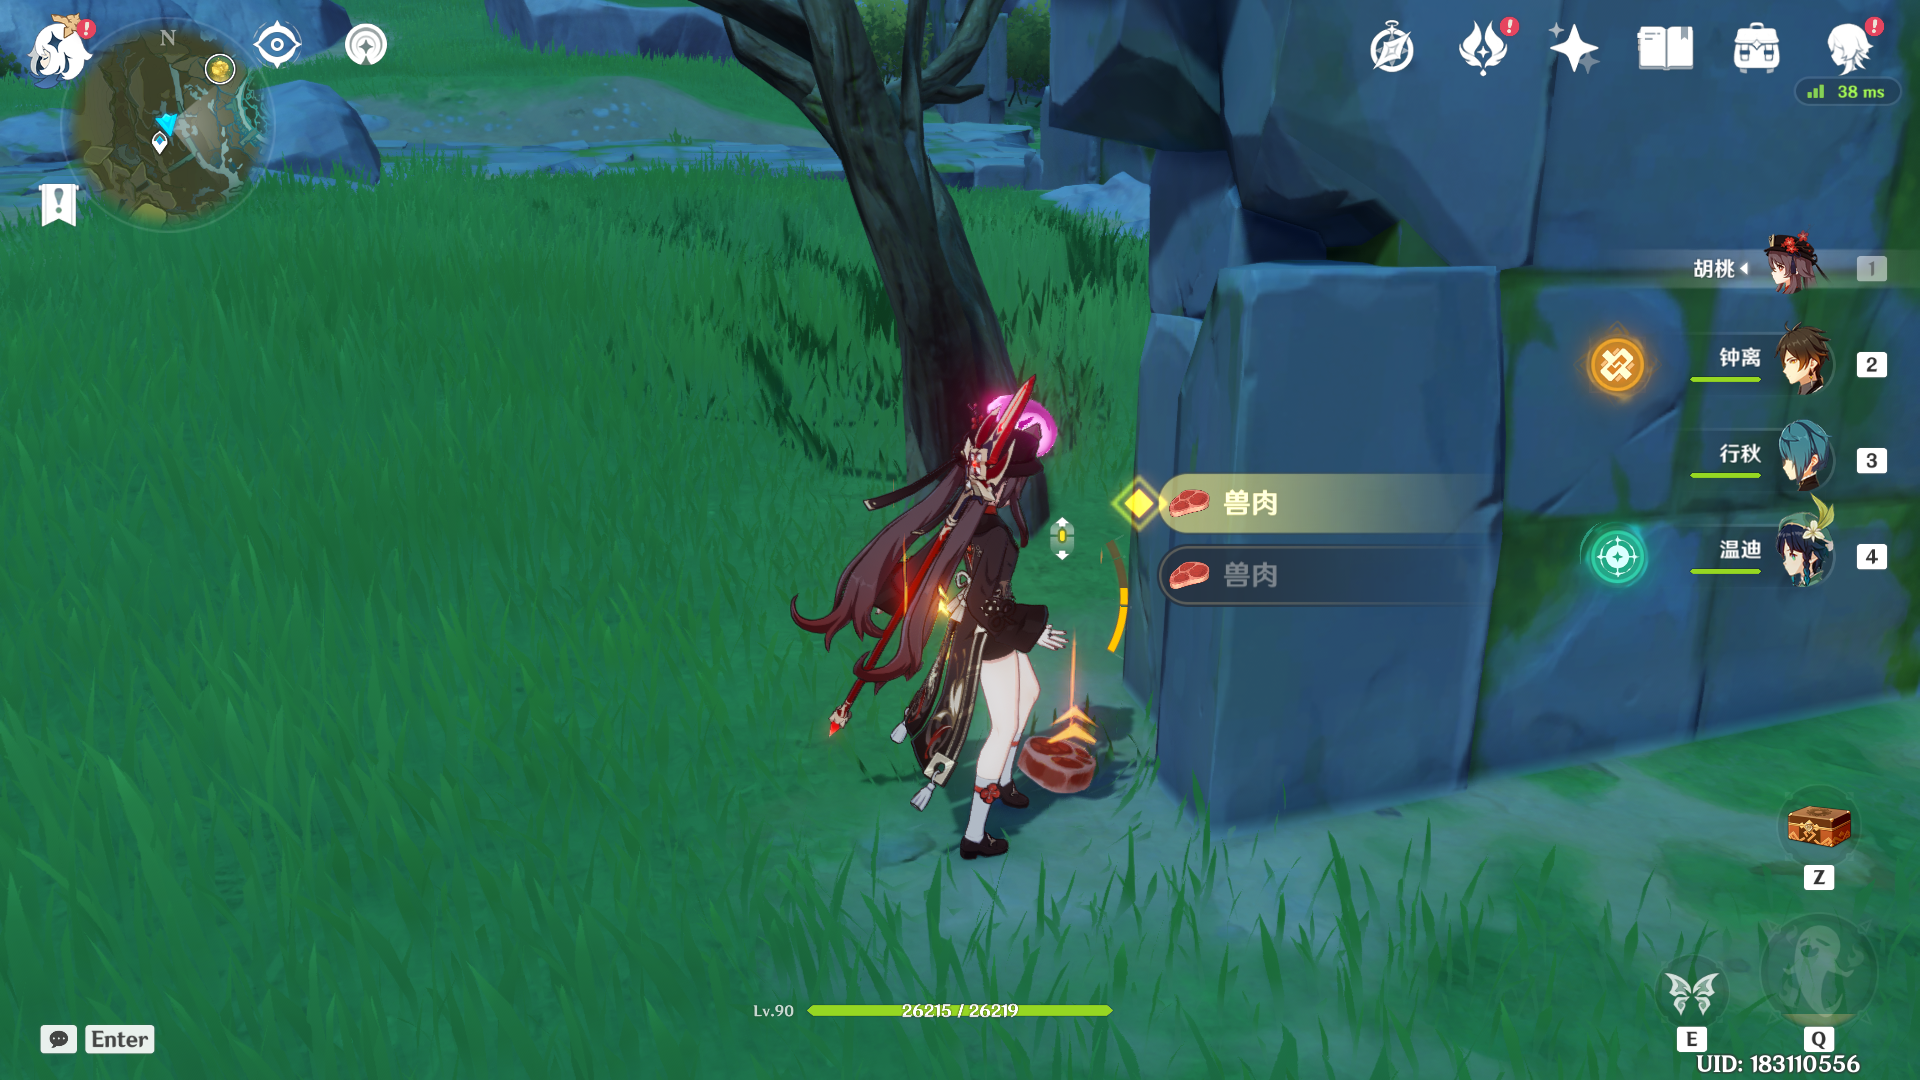character: (769, 338, 1131, 905)
